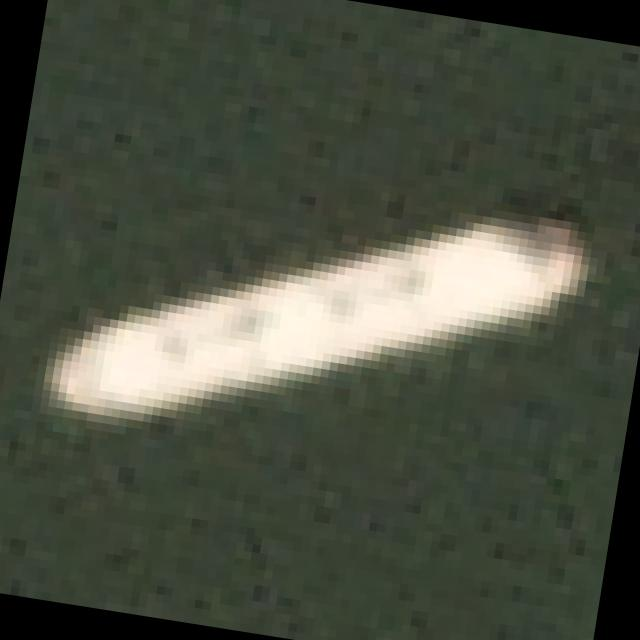ship: (0, 96, 618, 560)
